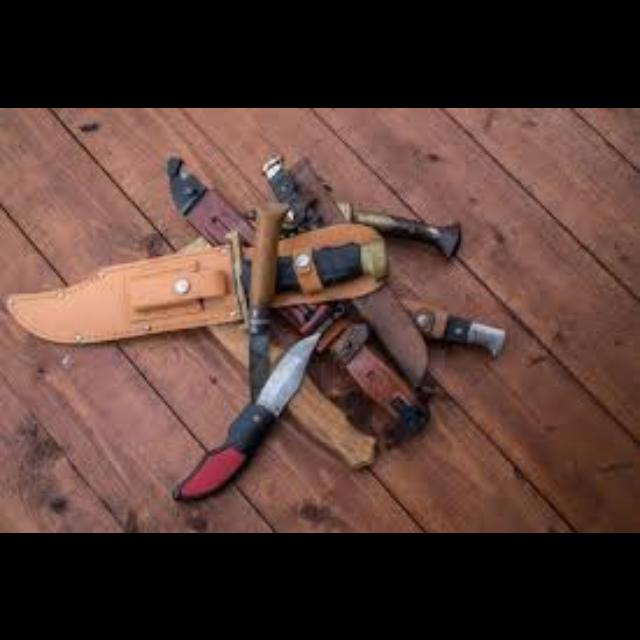knife: (2, 238, 432, 346), (170, 302, 344, 500), (165, 154, 253, 246), (247, 200, 286, 402)
